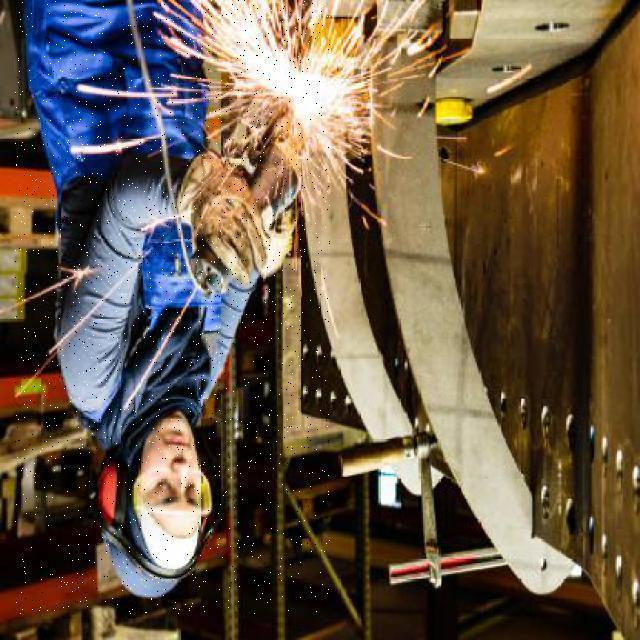gloves: (181, 136, 265, 292)
goggles: (130, 470, 216, 514)
